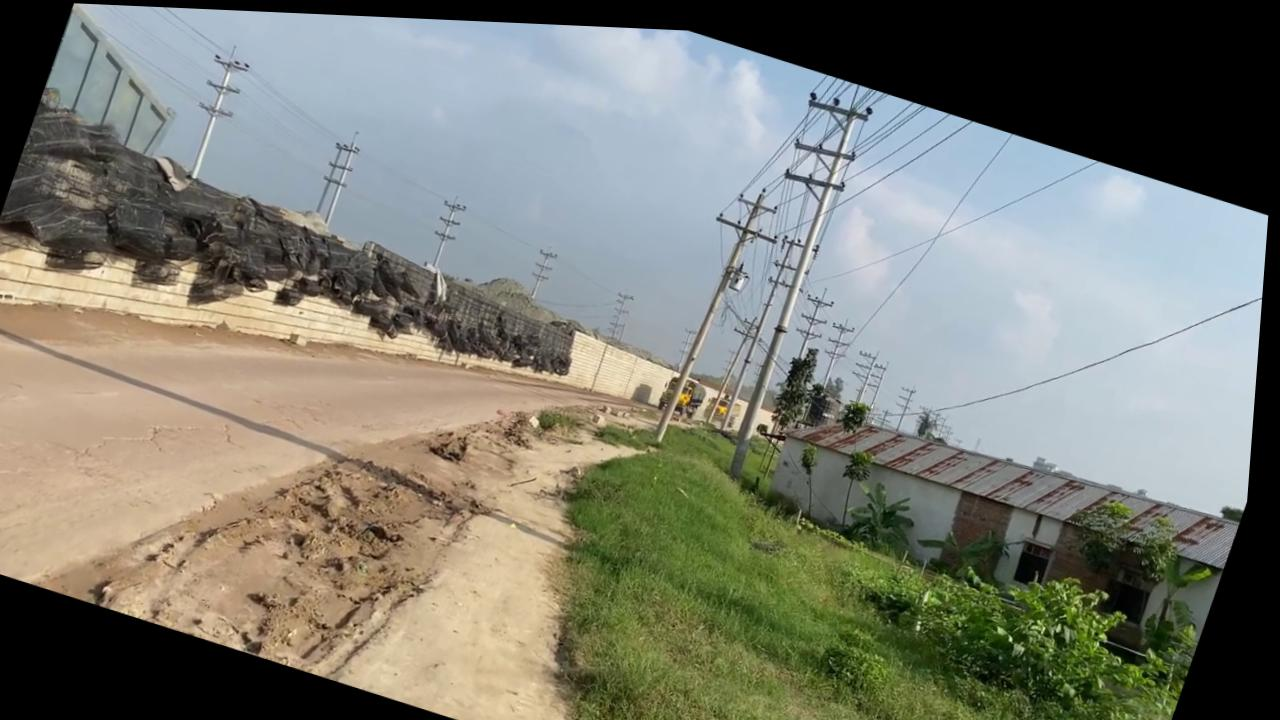Garbage: (0, 83, 620, 406)
Muddy road: (0, 193, 691, 720)
Pole: (645, 167, 794, 452), (175, 37, 256, 182)
Traffic-sign: (767, 331, 831, 433), (831, 435, 884, 522)
Tree: (660, 363, 716, 419), (705, 382, 750, 423)
